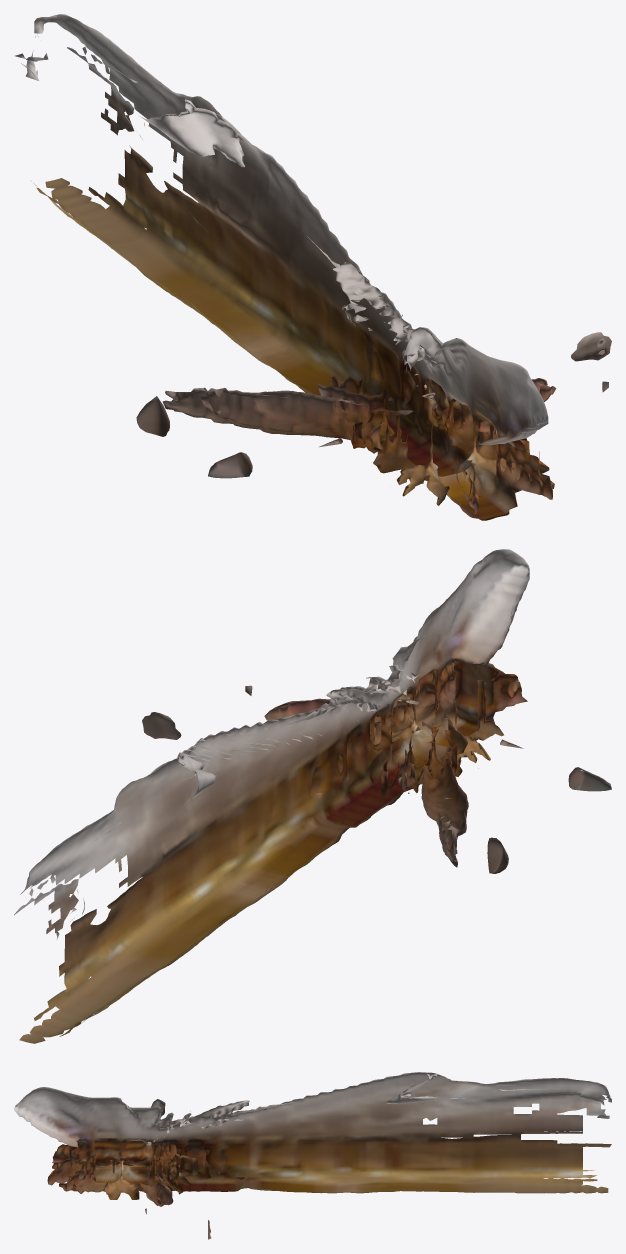
Rendered from pageworld-hogwarts-express-platform-v20260502225051-530d8282-collider.glb.
The picture shows the model from 3 angles, top to bottom: view 1: azimuth 30°, elevation 25°; view 2: azimuth 150°, elevation 25°; view 3: azimuth 270°, elevation 25°; orthographic projection. The views are drawn at different scales.
Parts seen in each view (by area): view 1: world; view 2: world; view 3: world.
Part boxes in pixels (x1,y1,x2,y2): world: [15, 14, 611, 520]; world: [14, 549, 611, 1043]; world: [14, 1072, 611, 1239].
Bounding box in the file's own units: 17.05 × 7.08 × 33.47.
